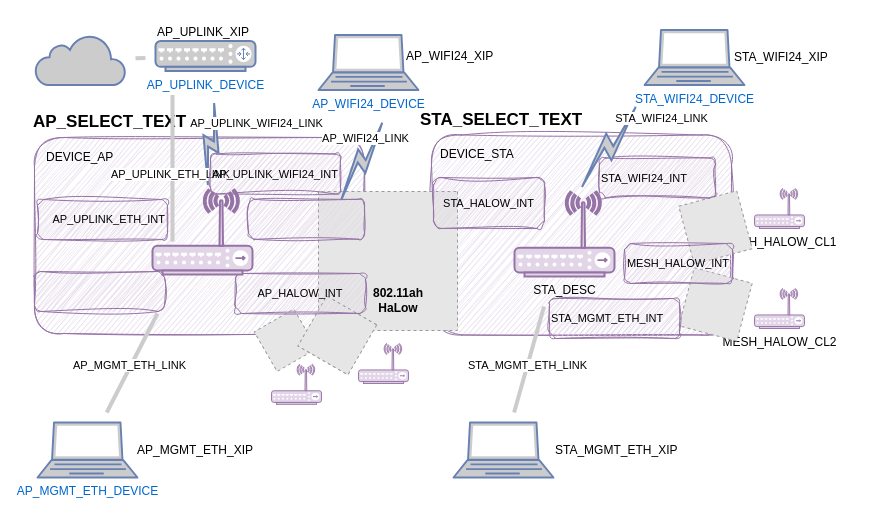
The diagram is 870 pixels wide and 515 high, and some of its shapes have lost their labels. Grey dashed boxes stand in for pictures. The shapes that lost their labels are listed below. From the top down, each one's centre as x and y in pixels, then its label:
pixel 80 60: AP_UPLINK_SOURCE
pixel 202 231: AP_DESC
pixel 306 218: AP_WIFI24_INT
pixel 99 291: AP_MGMT_ETH_INT
pixel 383 363: AP_HALOW_CL2
pixel 296 384: AP_HALOW_CL1
pixel 503 449: STA_MGMT_ETH_DEVICE
